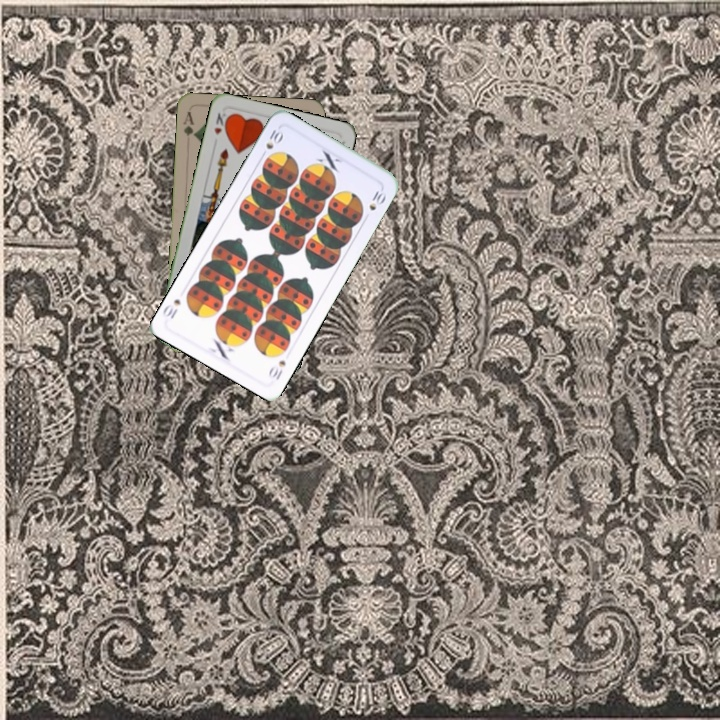GA: (179, 107, 198, 140)
HK: (210, 109, 232, 137)
S10: (257, 125, 286, 161), (264, 356, 288, 383)
